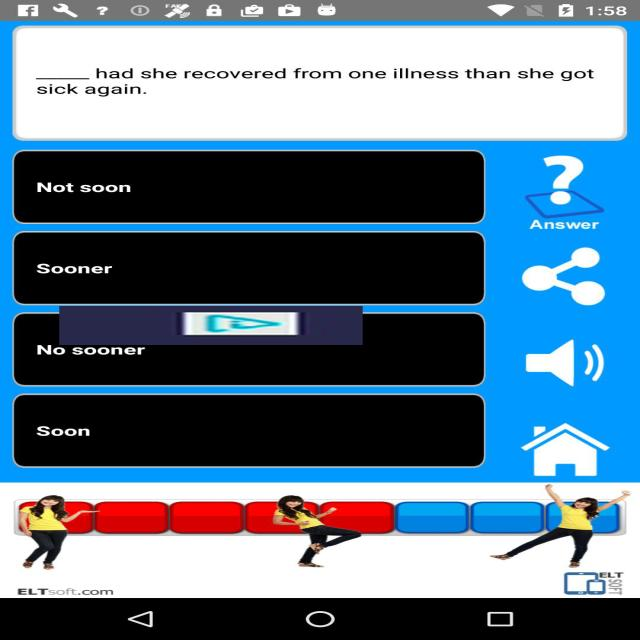sneaking: (59, 306, 363, 345)
